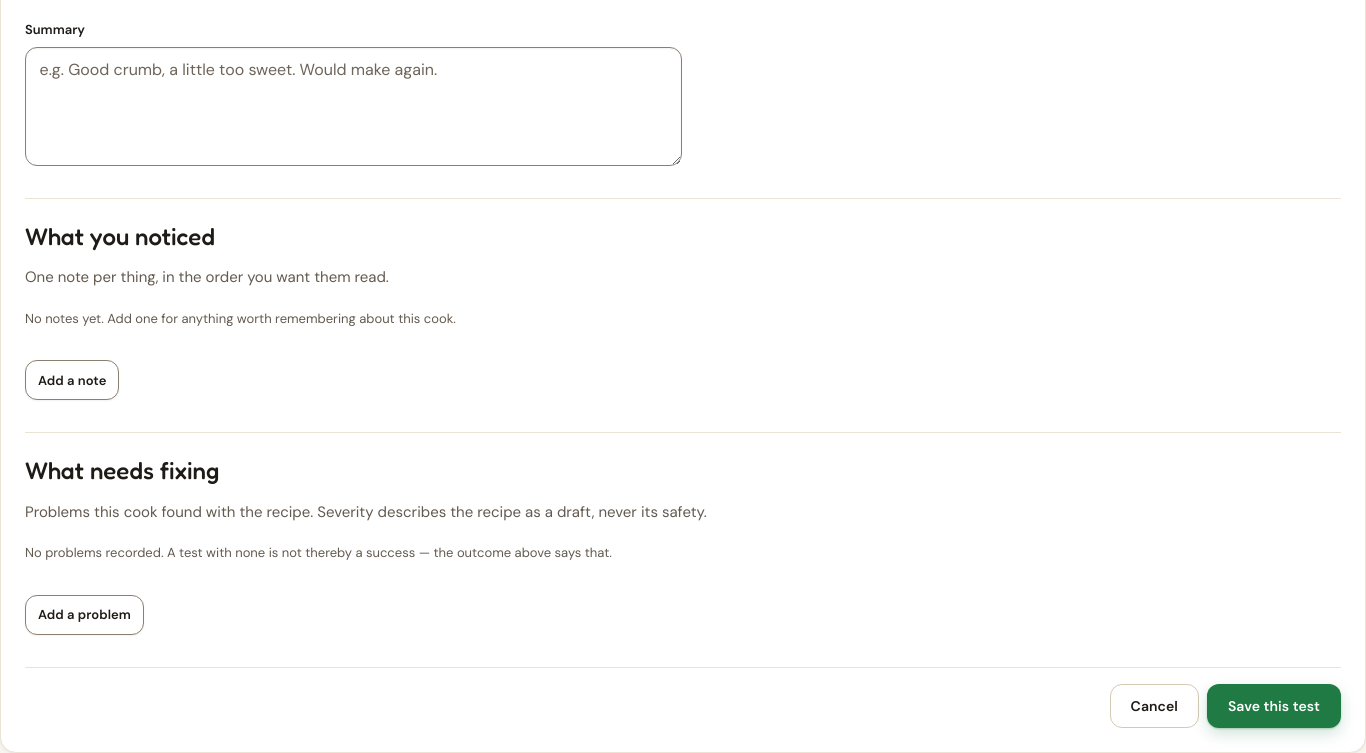
RecipeTestRunFormComponent › says to unarchive rather than to retry when the recipe is archived
(page scrolled)
Click the submit button at (1274, 706), box top-left (1207, 684), bottom-right (1341, 728)
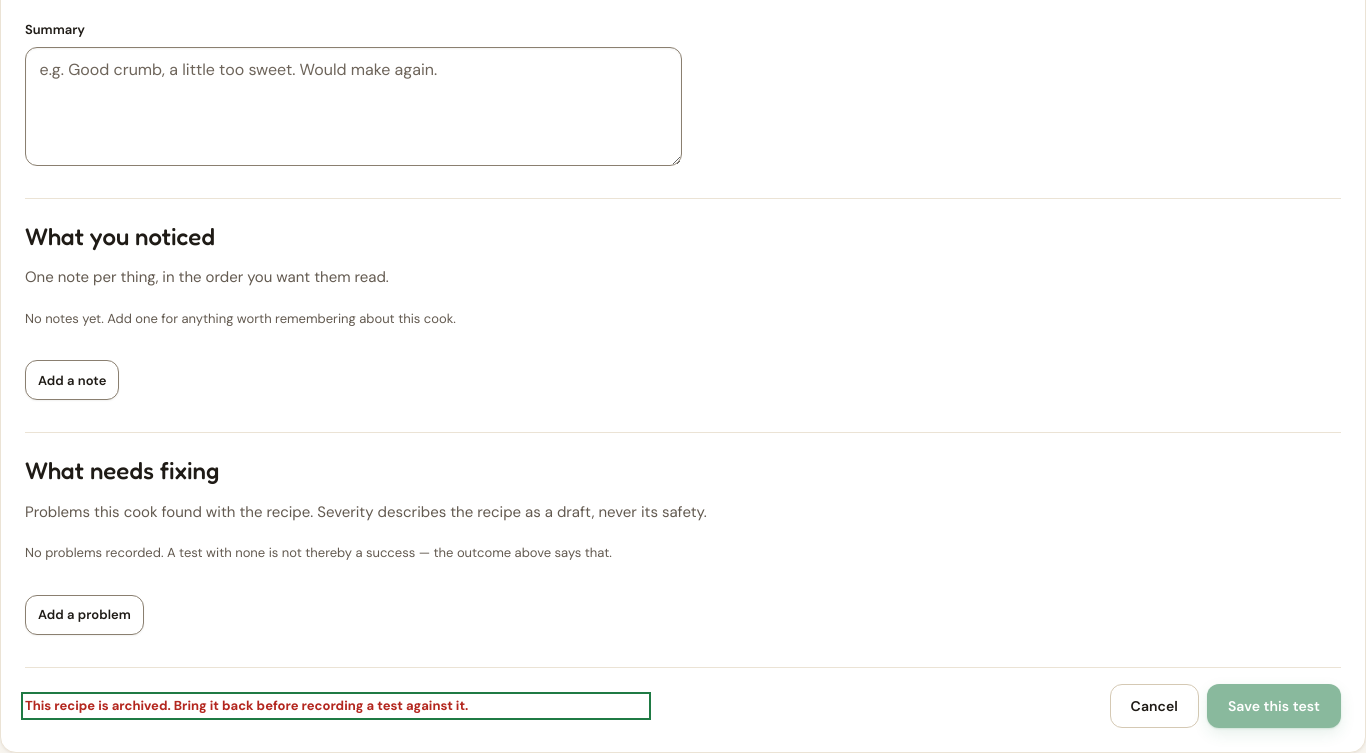
Result: the text "This recipe is archived." is shown at top-left (25, 697), bottom-right (468, 714)
Result: the submit button is disabled at top-left (1207, 684), bottom-right (1341, 728)
